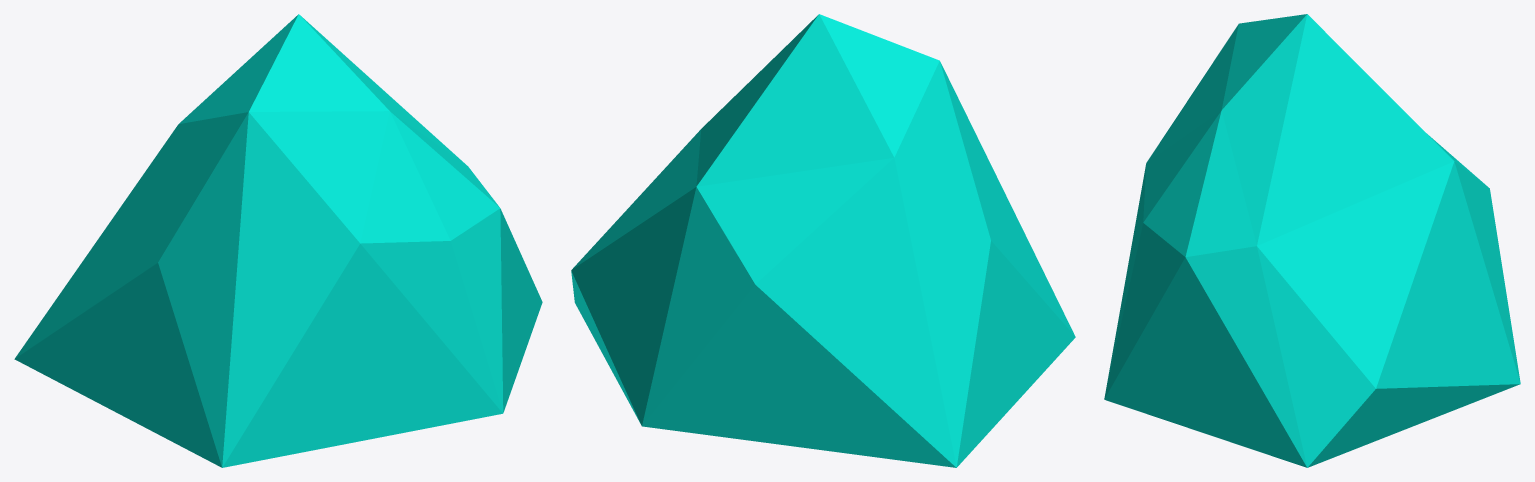
The model's file is hyoukai1.fbx.
3 views of the same model, side by side, from view 1: azimuth 30°, elevation 25°; view 2: azimuth 150°, elevation 25°; view 3: azimuth 270°, elevation 25° (orthographic). The views are drawn at different scales.
Parts seen in each view (by area): view 1: pCone1; view 2: pCone1; view 3: pCone1.
Boxes of the visible parts, box(x1,y1,x2,y2) form: pCone1: box(14, 14, 542, 467); pCone1: box(571, 14, 1075, 467); pCone1: box(1104, 14, 1520, 467).
Bounding box in the file's own units: 5.01 × 3.66 × 4.09.
